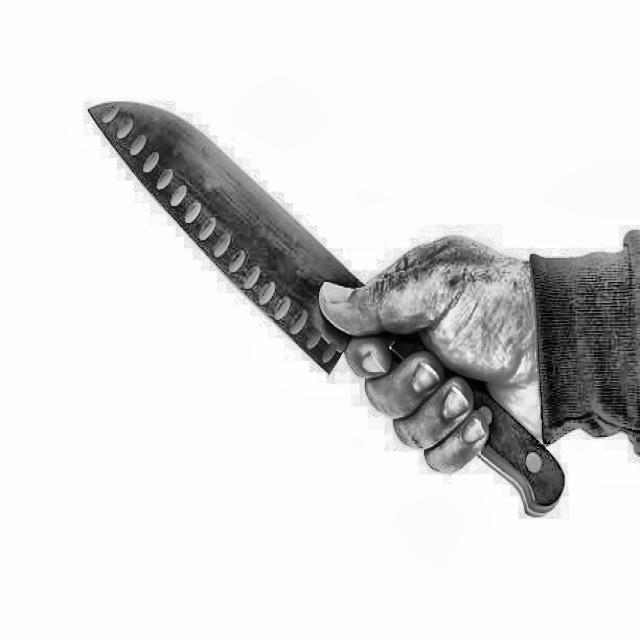pisau: (76, 98, 587, 528)
